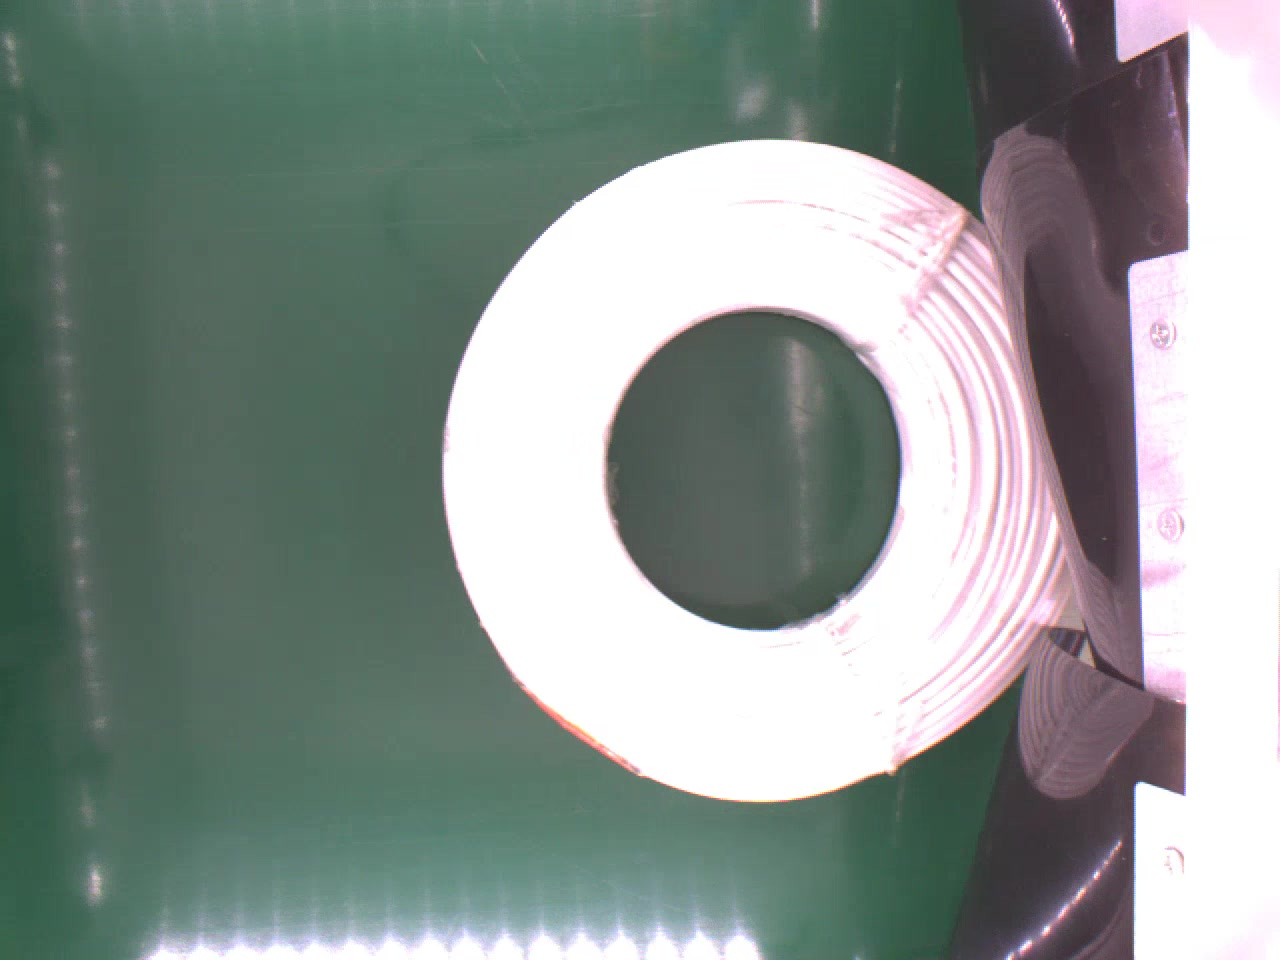white: (438, 133, 1093, 813)
